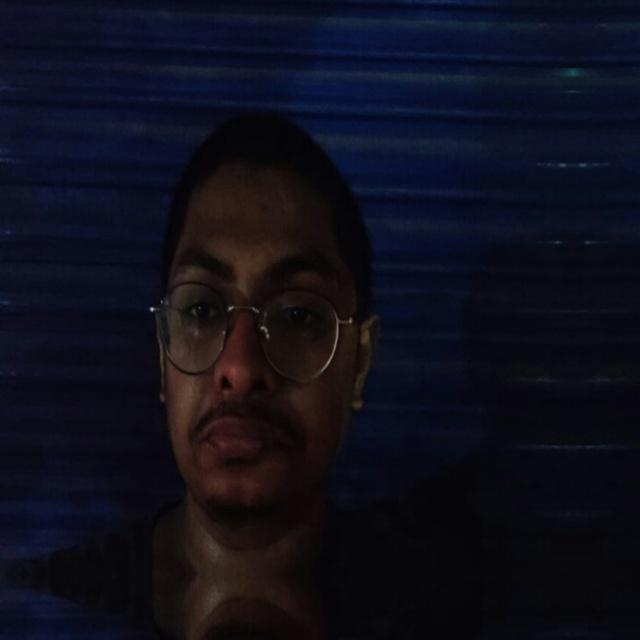Sad: (122, 130, 405, 538)
